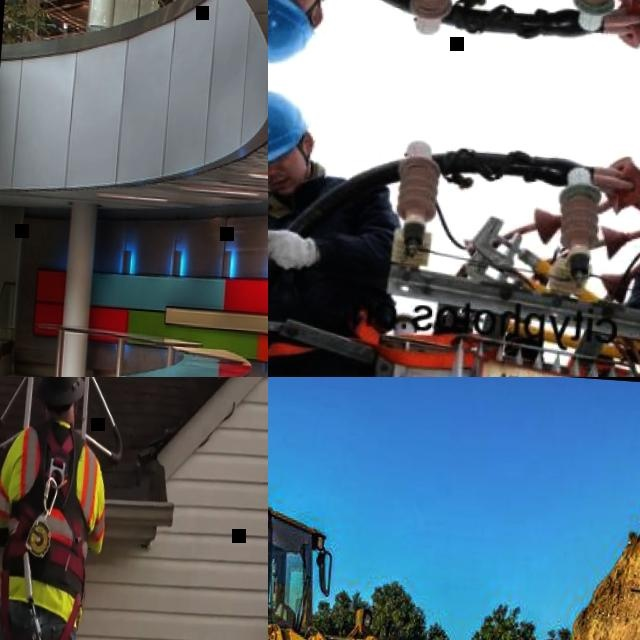Hardhat: (268, 86, 314, 173), (268, 0, 315, 67), (35, 377, 88, 408)
NO-Mask: (268, 168, 299, 195)
NO-Safety Vest: (268, 174, 375, 369)
Person: (268, 82, 414, 377), (0, 377, 114, 640), (268, 0, 351, 72), (154, 0, 182, 7)
Safety Vest: (0, 423, 109, 597)
machinery: (268, 475, 638, 640)
